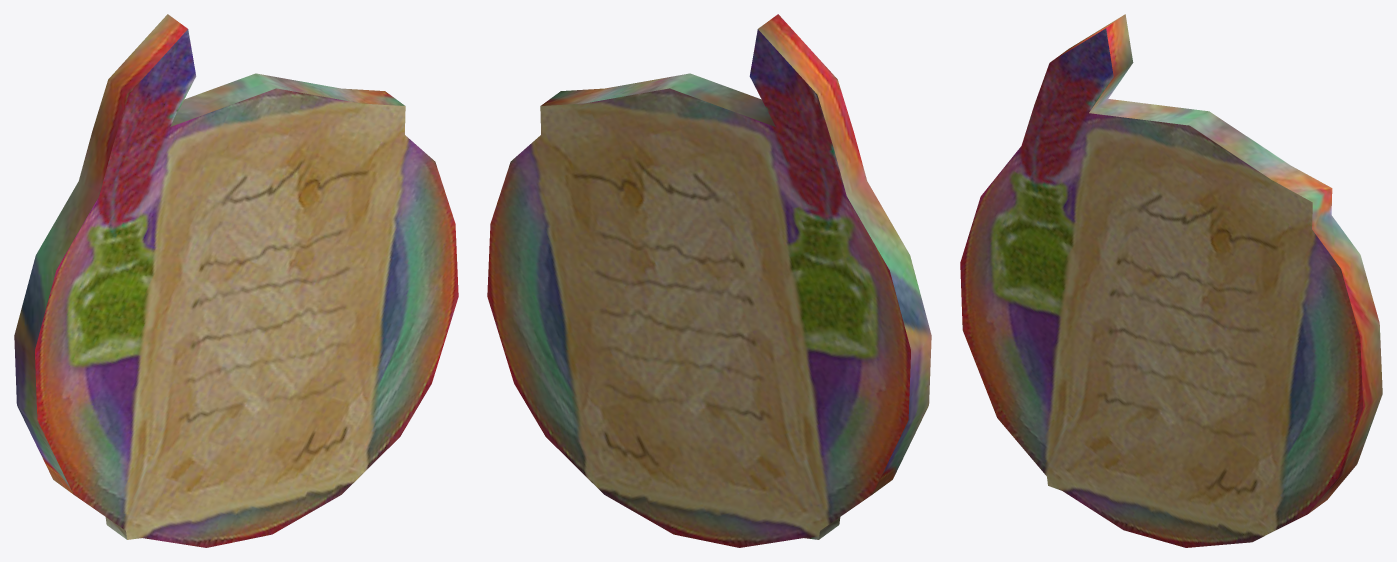
Rendered from tropos_spin.FBX.
The picture shows the model from 3 angles, left to right: view 1: azimuth 30°, elevation 25°; view 2: azimuth 150°, elevation 25°; view 3: azimuth 330°, elevation 25°; orthographic projection. The views are drawn at different scales.
Visible parts, largest first — view 1: Cylinder001; view 2: Cylinder001; view 3: Cylinder001.
Part boxes in pixels (x1,y1,x2,y2): Cylinder001: (14, 14, 458, 547); Cylinder001: (487, 14, 931, 547); Cylinder001: (960, 14, 1382, 547).
Size of the model in its own units: 129 by 10.8 by 153.
Materials: 1 (1 with a texture image).
